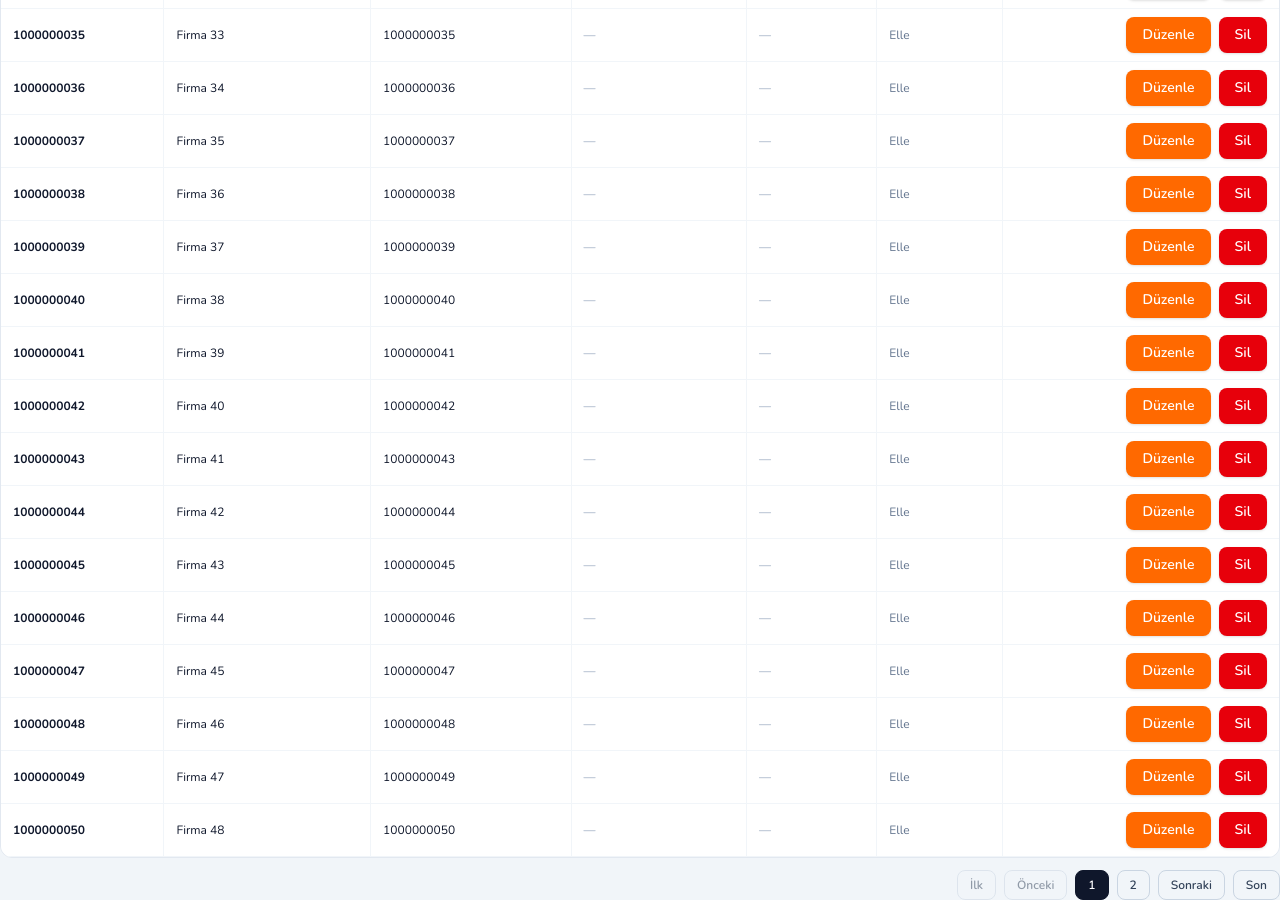
it: FirmalarPage › firmaları 50şerli sayfalar ve Türkçe büyük/küçük harf duyarsız arar
(page scrolled)
Check: the text "Firma 59" is not shown
Click the button "2": (1133, 885) [1116, 870, 1150, 899]
(page scrolled)
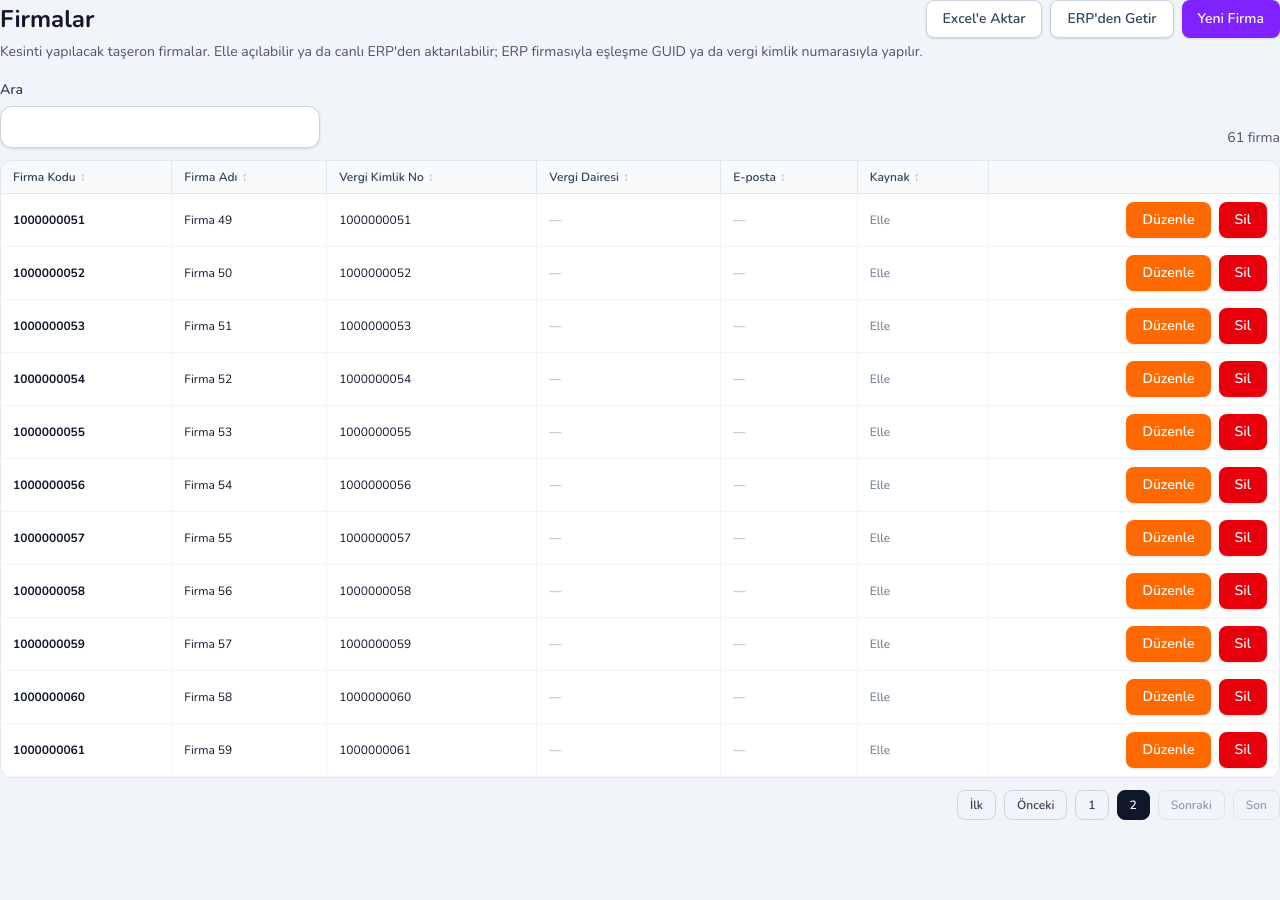
Check: the text "Firma 59" is shown, box [184, 742, 232, 758]
In the search field labelled "Ara": (160, 127) [0, 106, 320, 148], type "aktaş hafriyat"
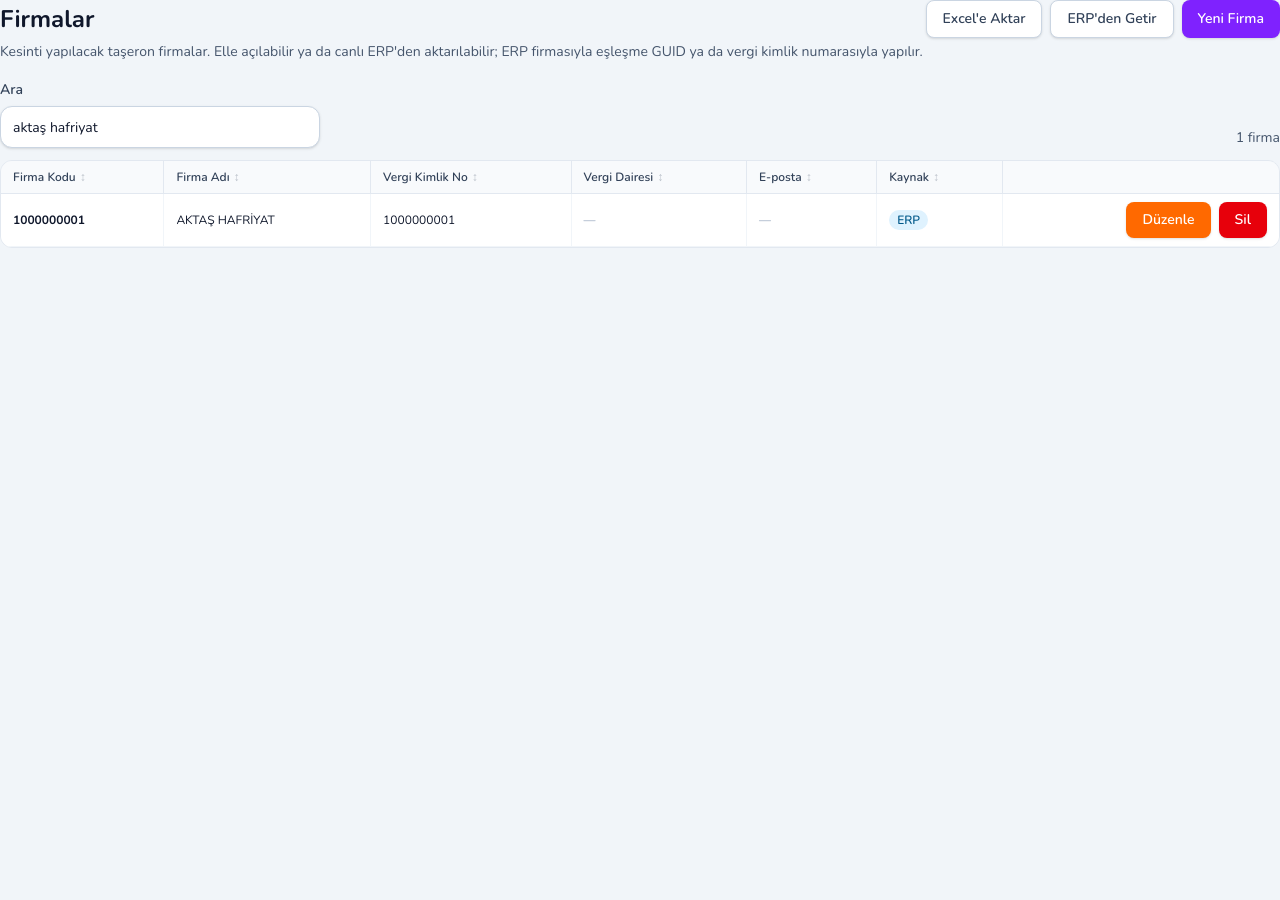
Check: the text "1 firma" is shown, box [1236, 128, 1279, 148]
Check: the text "AKTAŞ HAFRİYAT" is shown, box [176, 212, 275, 228]
Check: the text "Firma 59" is gone
